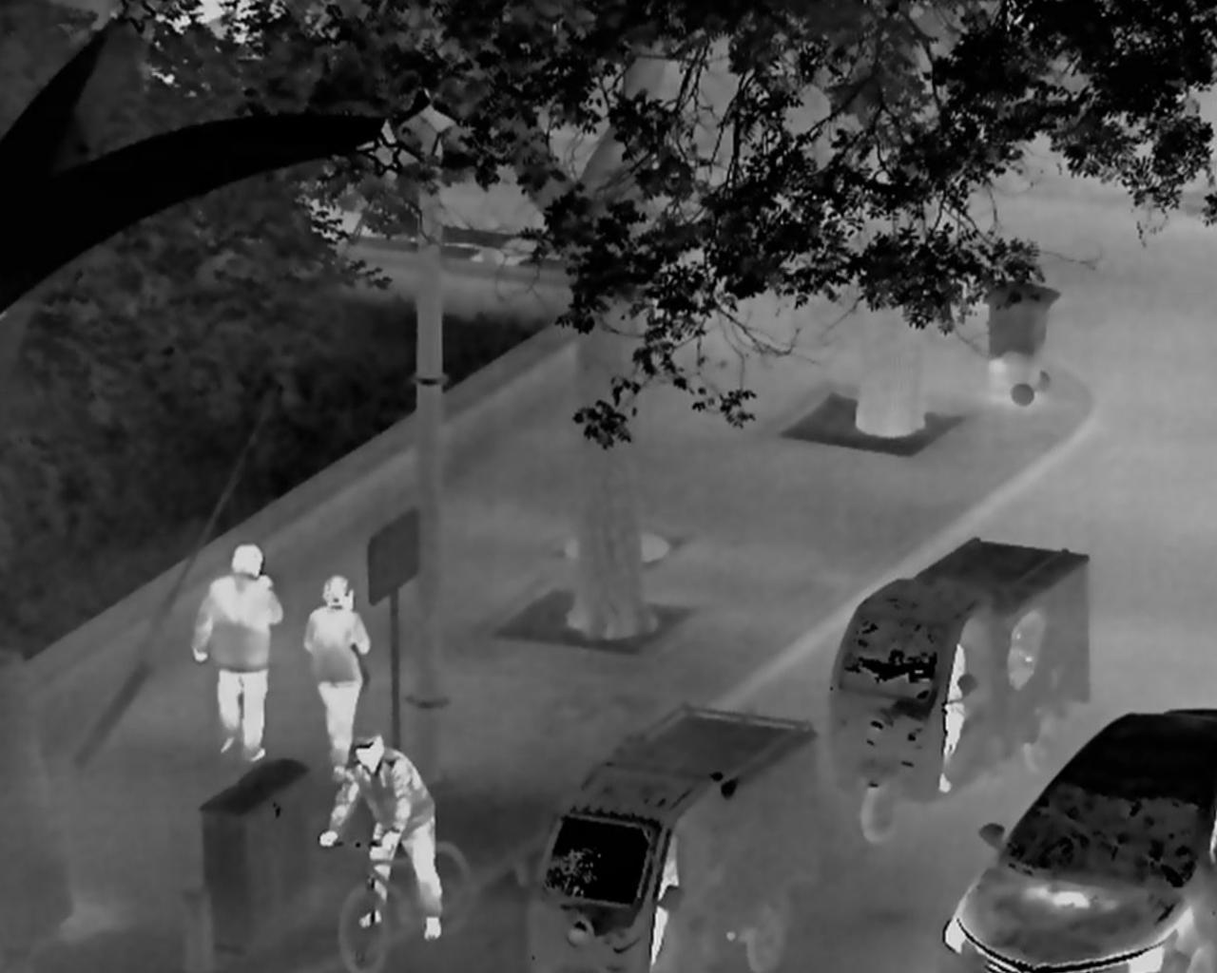person: (319, 730, 444, 941), (191, 542, 286, 761), (302, 575, 371, 781), (938, 643, 968, 792), (648, 831, 680, 965)
